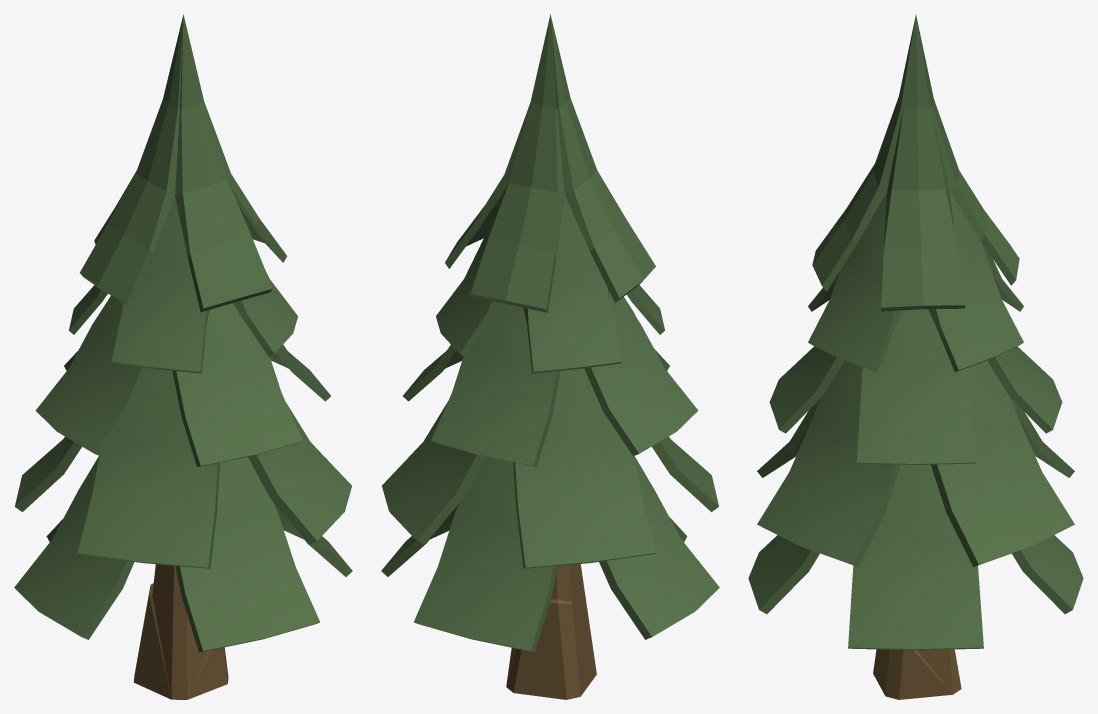
The model's file is model_polytope_fern01_large.fbx.
The picture shows the model from 3 angles, left to right: view 1: azimuth 30°, elevation 25°; view 2: azimuth 150°, elevation 25°; view 3: azimuth 270°, elevation 25°; orthographic projection.
Visible parts, largest first — view 1: model_polytope_fern01_large; view 2: model_polytope_fern01_large; view 3: model_polytope_fern01_large.
Part boxes in pixels (left/top/right/bottom): model_polytope_fern01_large: left=14, top=14, right=352, bottom=699; model_polytope_fern01_large: left=381, top=14, right=719, bottom=699; model_polytope_fern01_large: left=748, top=15, right=1083, bottom=699.
Size of the model in its own units: 324 by 712 by 324.
1 material, 1 textured.
